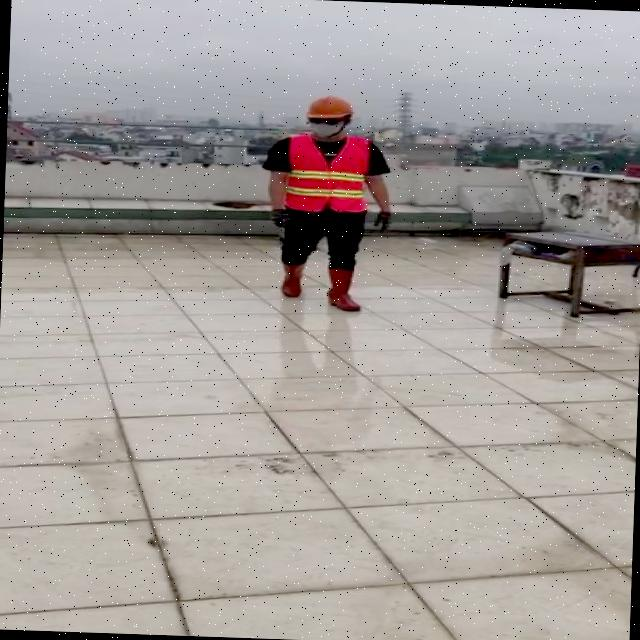boots: (325, 268, 361, 314), (280, 260, 304, 298)
helmet: (302, 93, 357, 120)
vest: (286, 130, 371, 212)
